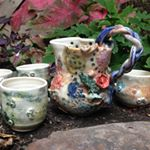cups: (2, 75, 49, 134), (114, 68, 150, 109)
